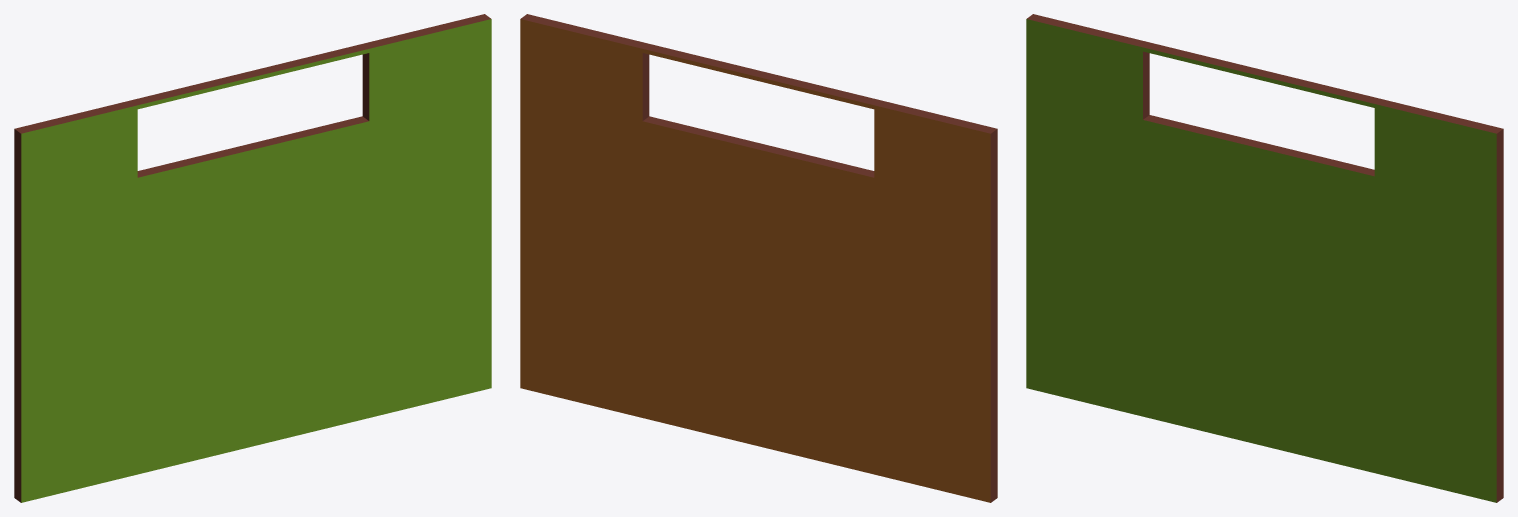
File: ParedVentana300x400.fbx
3 renders of one model, left to right at view 1: azimuth 30°, elevation 25°; view 2: azimuth 150°, elevation 25°; view 3: azimuth 330°, elevation 25°, orthographic.
Visible parts, largest first — view 1: ParedVentana300x400; view 2: ParedVentana300x400; view 3: ParedVentana300x400.
Boxes of the visible parts, <box> form: ParedVentana300x400: <box>14,14,491,502</box>; ParedVentana300x400: <box>520,14,997,502</box>; ParedVentana300x400: <box>1026,14,1503,502</box>.
Bounding box in the file's own units: 400 × 300 × 10.
